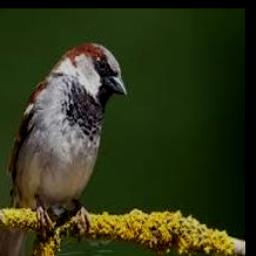Sparrow: (0, 41, 128, 256)
